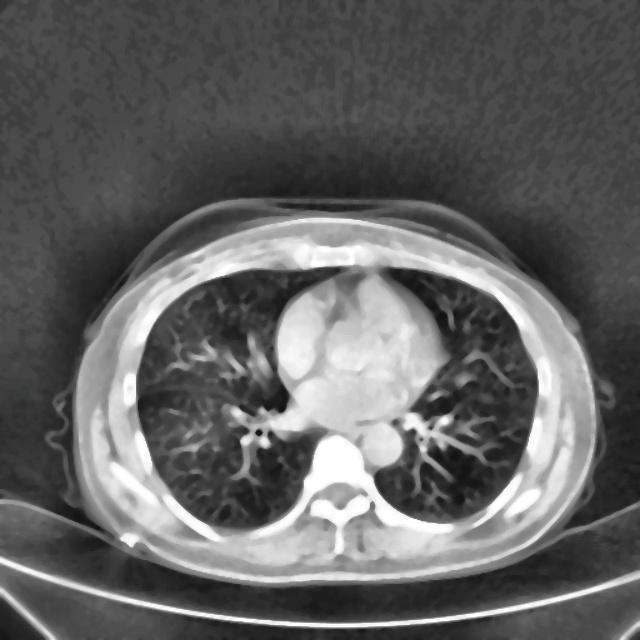covid: (52, 195, 606, 586)
